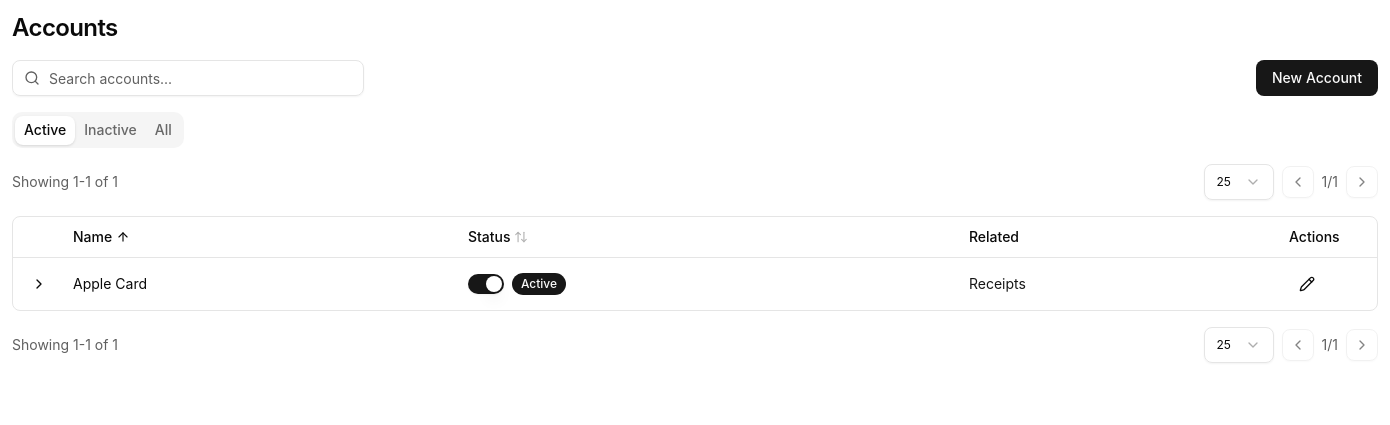
it: Accounts › shows 'No cards linked' when expanded account has no cards
This screenshot has width=1390, height=425.
Click the button named "expand cards" at coordinates (39, 284), box left=21, top=266, right=57, bottom=302
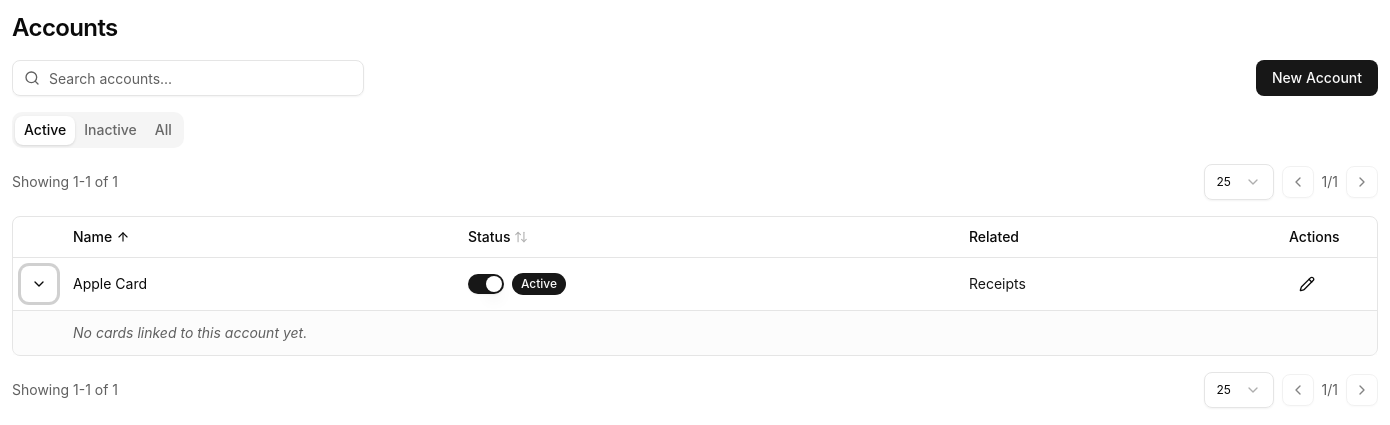
expect the text "No cards linked to this account yet." is shown: met, box left=73, top=324, right=307, bottom=340
